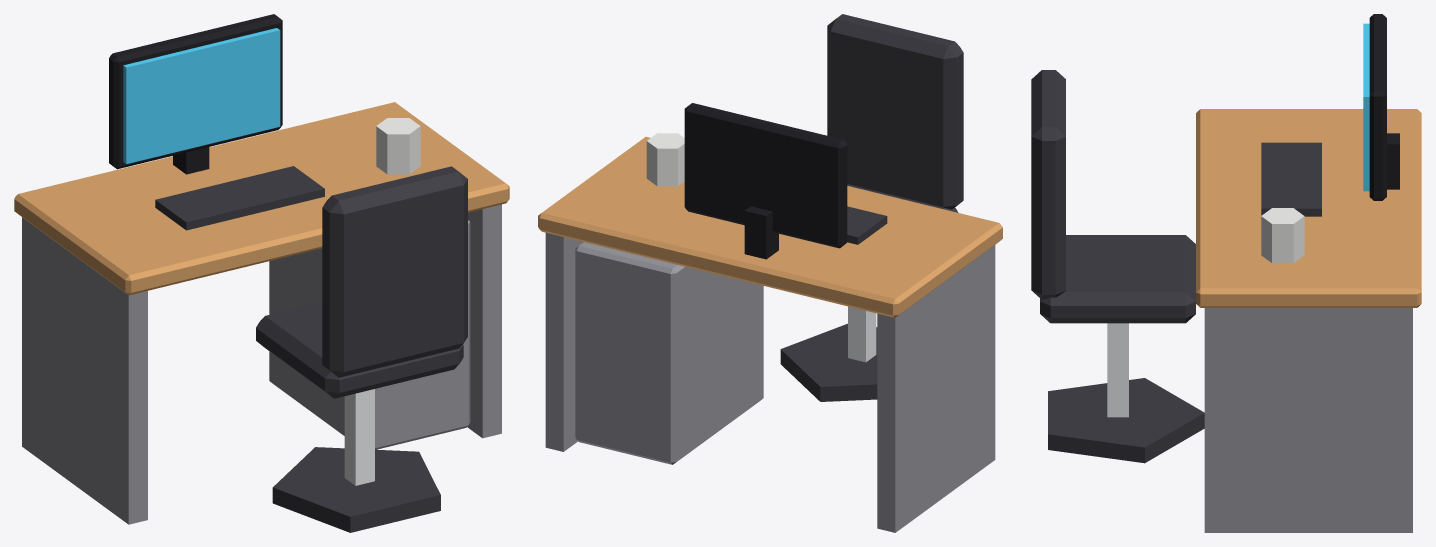
The model's file is OfficeDesk.fbx.
The picture shows the model from 3 angles, left to right: view 1: azimuth 30°, elevation 25°; view 2: azimuth 150°, elevation 25°; view 3: azimuth 270°, elevation 25°; orthographic projection. The views are drawn at different scales.
Visible parts, largest first — view 1: OfficeDesk; view 2: OfficeDesk; view 3: OfficeDesk.
Boxes of the visible parts, box(x1,y1,x2,y2) form: OfficeDesk: box(14, 14, 509, 532); OfficeDesk: box(538, 14, 1002, 532); OfficeDesk: box(1031, 14, 1421, 532).
Size of the model in its own units: 5 by 4.8 by 4.5.
1 material, 1 textured.
